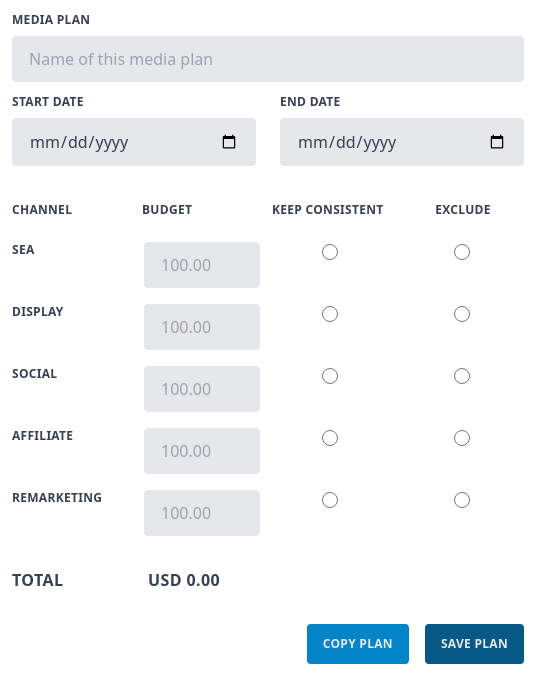
Test: Media Plan › updates the total budget
Type "23.50" into the field with test id "SEA-budget" at (202, 265), box [144, 242, 260, 288]
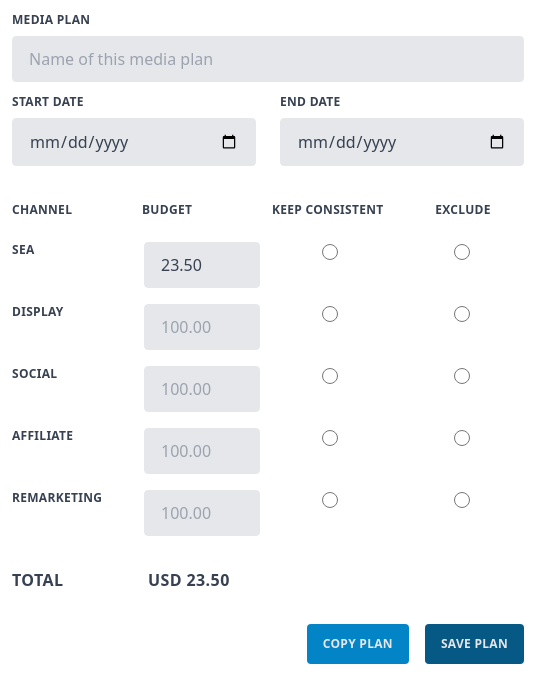
Type "10.25" into the field with test id "Remarketing-budget" at (202, 513), box [144, 490, 260, 536]
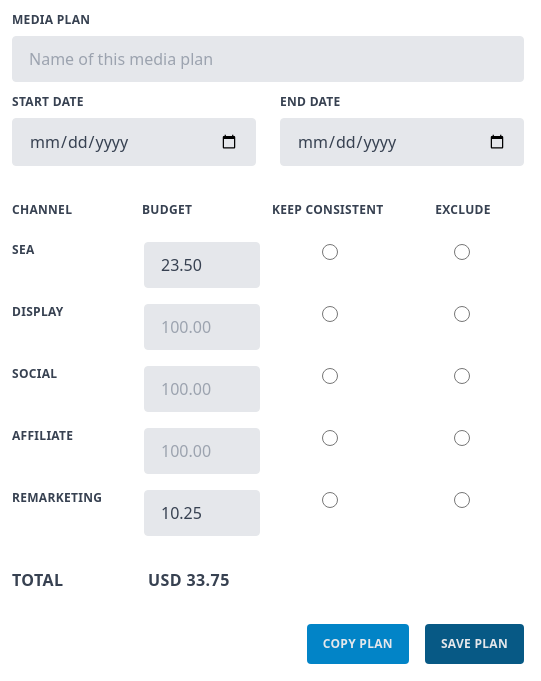
Now the text with test id "total-budget" reads "33.75", box [186, 569, 230, 591]
